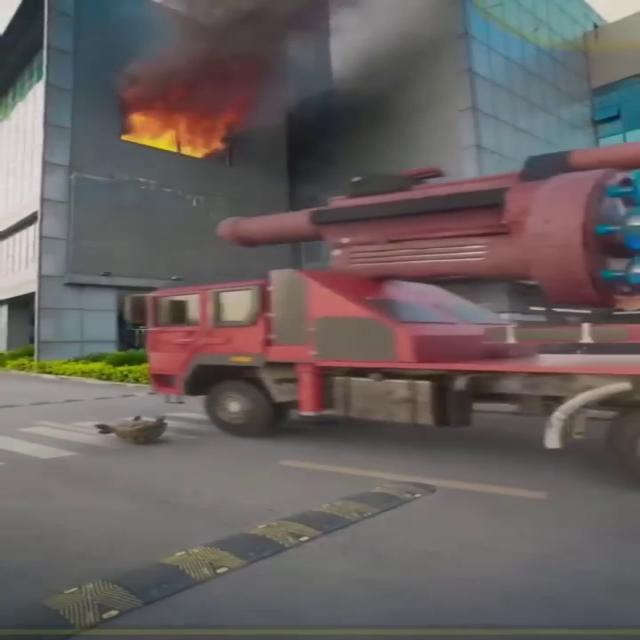Fire: (115, 104, 231, 158)
Smoke: (89, 0, 508, 190), (80, 0, 509, 120)
